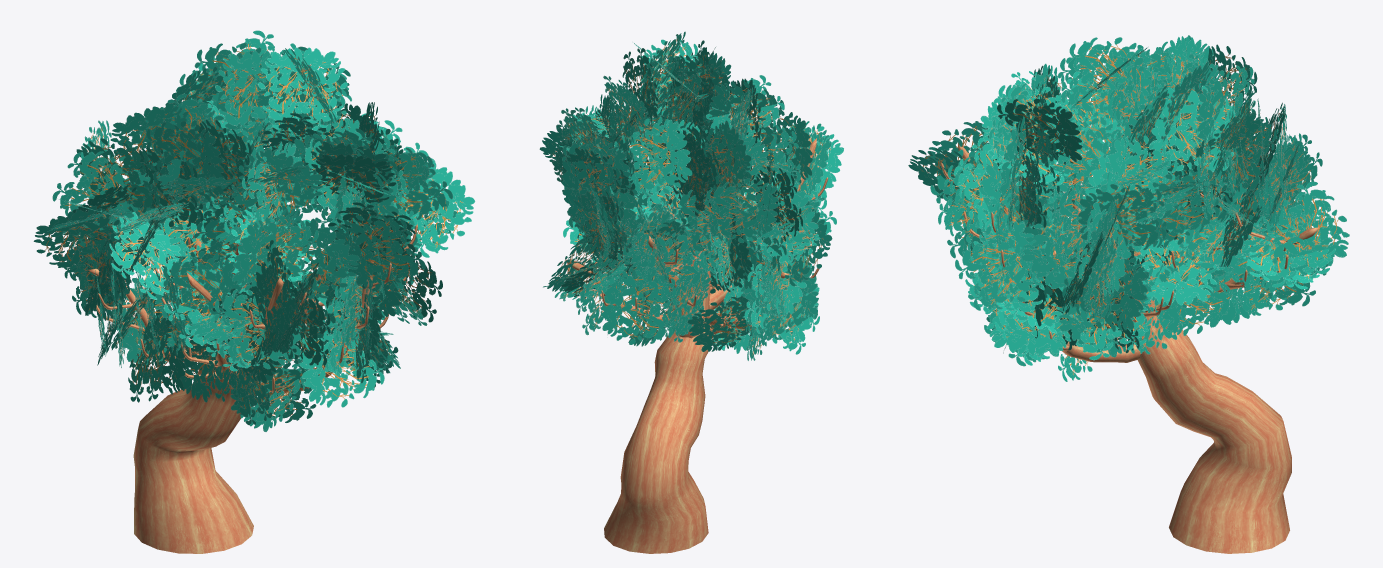
File: Tree(Mountains).fbx
The picture shows the model from 3 angles, left to right: view 1: azimuth 30°, elevation 25°; view 2: azimuth 150°, elevation 25°; view 3: azimuth 270°, elevation 25°; orthographic projection. The views are drawn at different scales.
Visible parts, largest first — view 1: Leaves, Cylinder.054; view 2: Leaves, Cylinder.054; view 3: Leaves, Cylinder.054.
Boxes of the visible parts, x1=… form: Leaves: x1=33, y1=30, x2=475, y2=431; Cylinder.054: x1=88, y1=215, x2=417, y2=553; Leaves: x1=539, y1=31, x2=843, y2=360; Cylinder.054: x1=565, y1=138, x2=828, y2=553; Leaves: x1=908, y1=35, x2=1349, y2=381; Cylinder.054: x1=940, y1=143, x2=1319, y2=553.
Bounding box in the file's own units: 1229 × 1452 × 1199.
